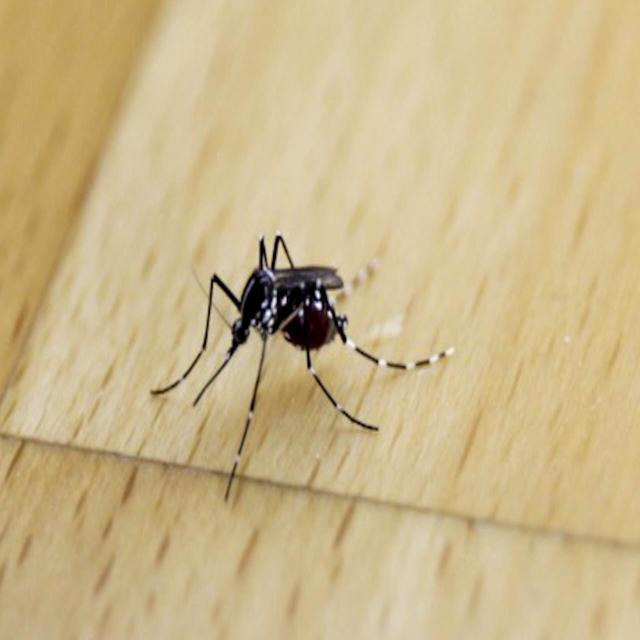albopictus: (145, 198, 445, 502)
